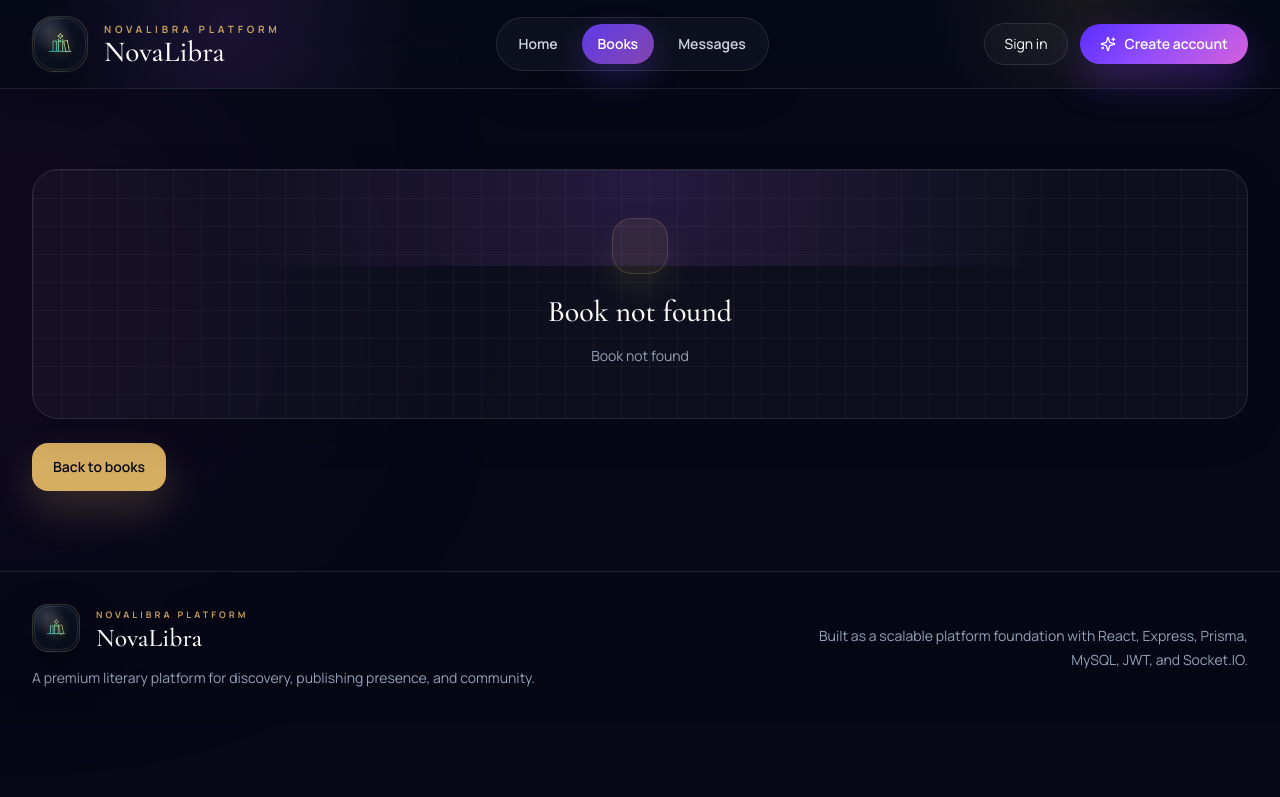
it: Public visitor experience › missing books show a safe public fallback state
Expected: the heading "Book not found" is shown, [548,293,732,330]
Click the link "Back to books": (99, 467) [32,443,166,491]
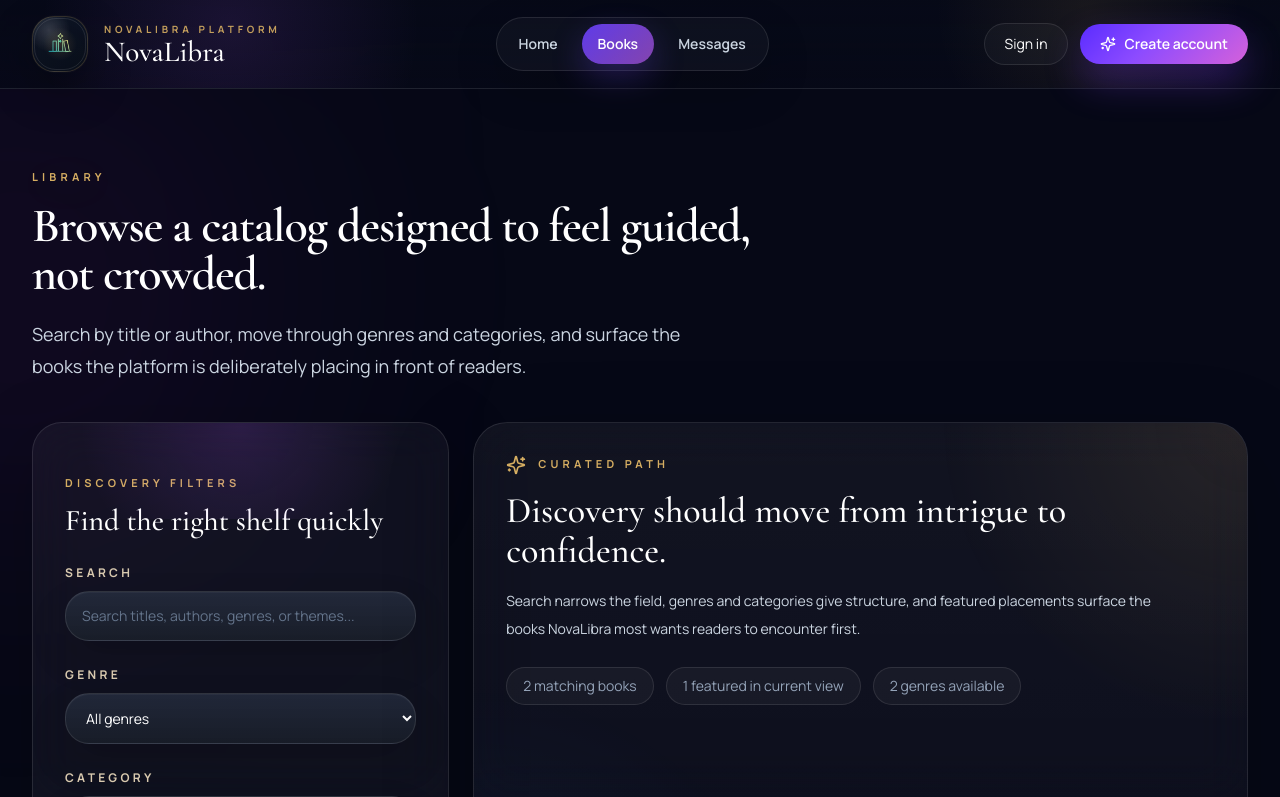
Result: the heading "Browse a catalog designed to feel guided, not crowded." is shown at [32,202,800,298]
